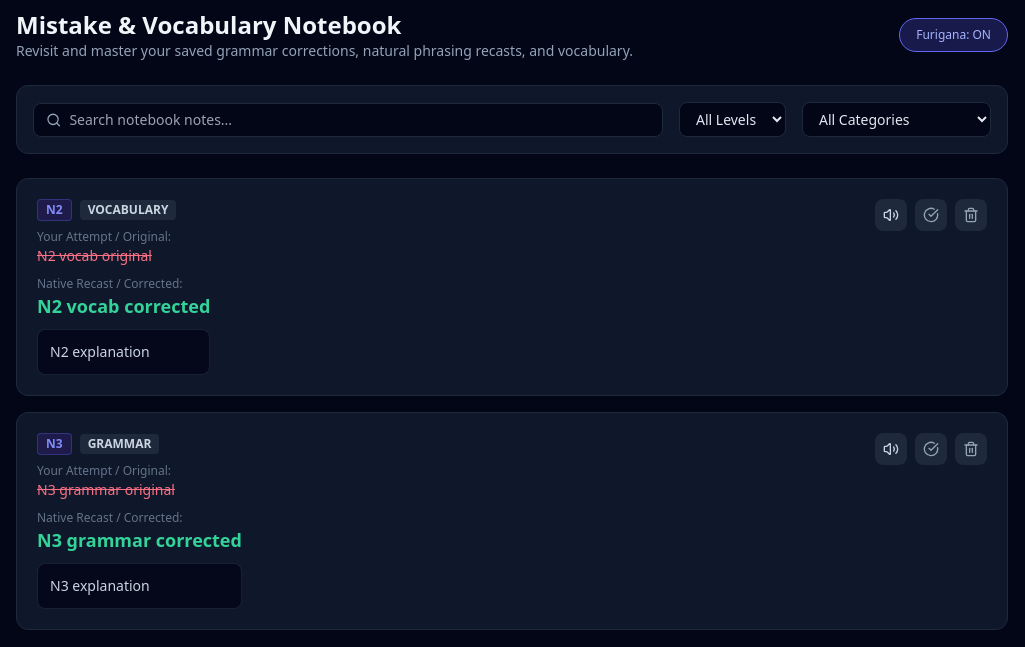
Test: NotebookView › filters items by JLPT level and category
This screenshot has width=1025, height=647.
Expected: the text "N3 grammar original" is shown, 37,480 -> 175,499
Expected: the text "N2 vocab original" is shown, 37,246 -> 152,265
Note: Filter by level N3
Select "JLPT N3" in the 1st dropdown: (732, 120) 679,102 -> 786,137
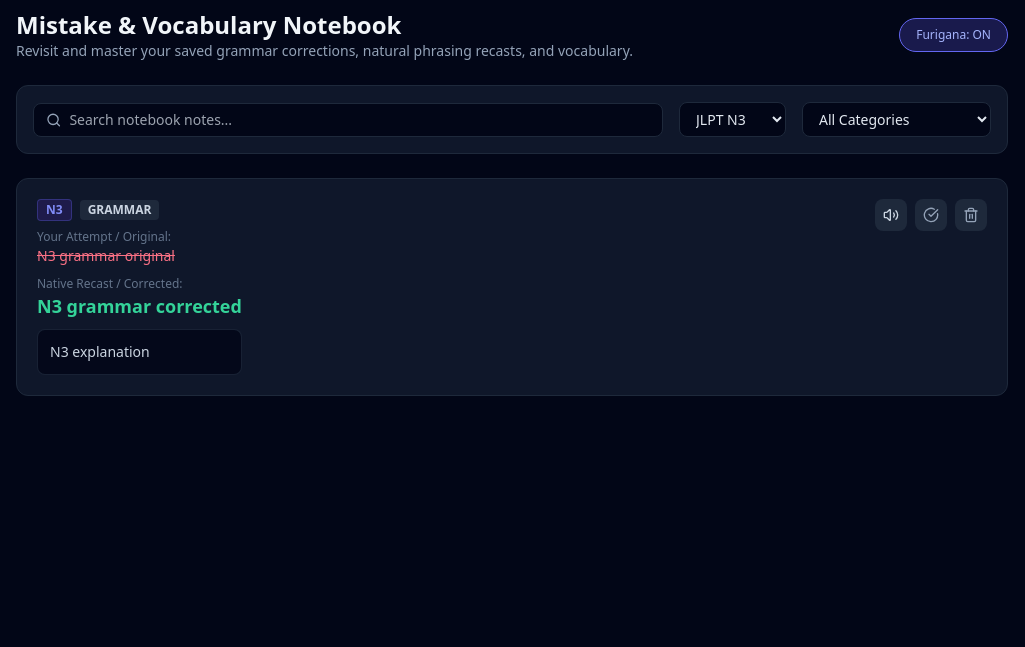
Expected: the text "N3 grammar original" is shown, 37,246 -> 175,265
Now the text "N2 vocab original" is gone
Note: Reset level filter and filter by category vocabulary
Select "All Levels" in the 1st dropdown: (732, 120) 679,102 -> 786,137
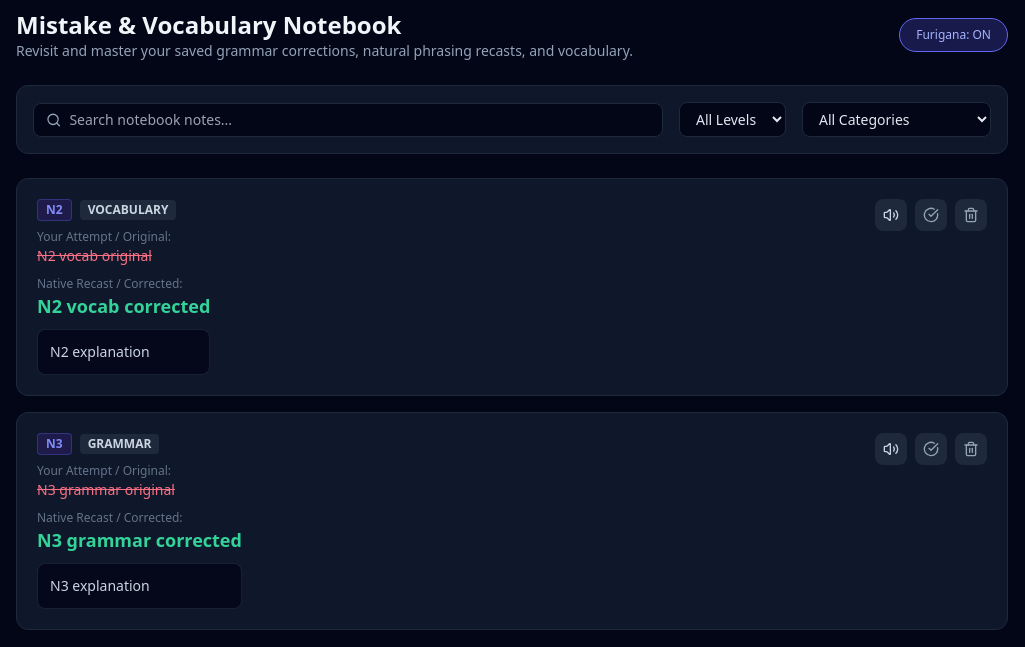
Select "Vocabulary" in the 2nd dropdown: (896, 120) 802,102 -> 991,137
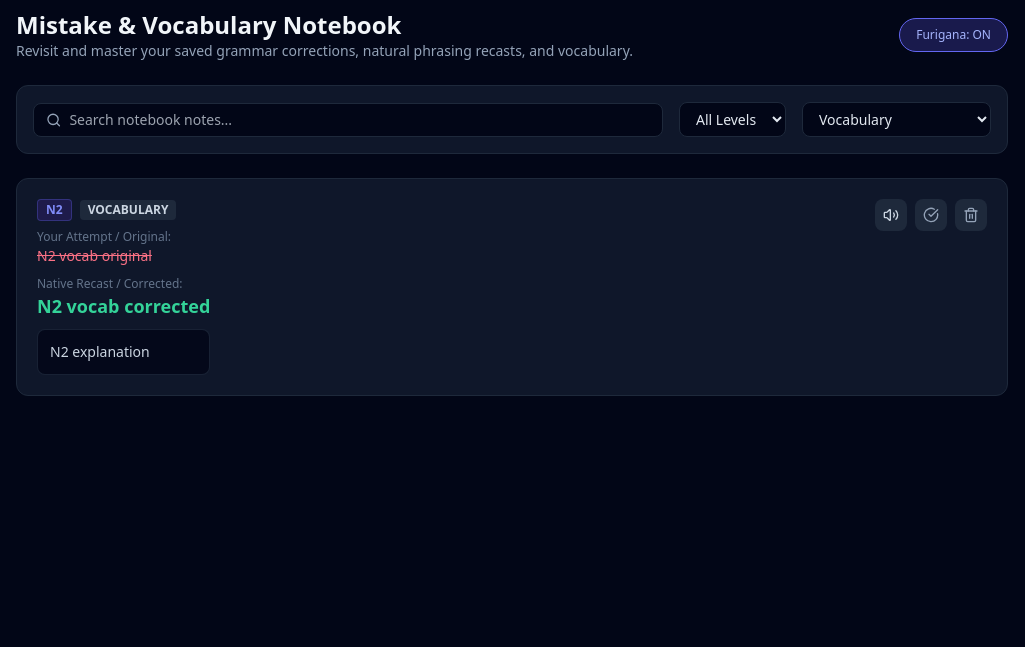
Now the text "N2 vocab original" is shown, box 37,246 -> 152,265
Now the text "N3 grammar original" is gone
